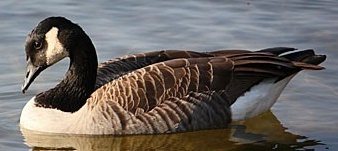goose: (16, 12, 330, 132)
